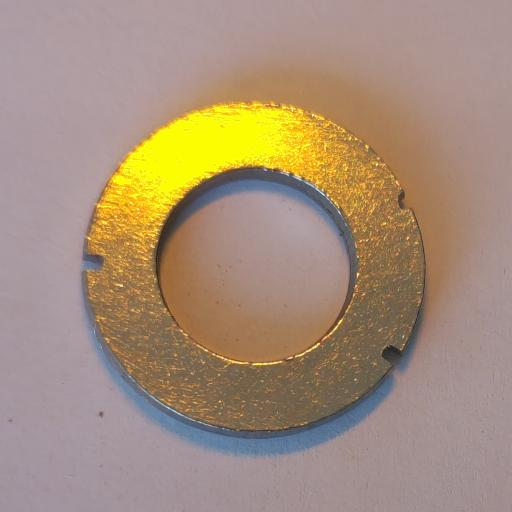burr: (380, 343, 403, 367), (82, 252, 106, 273), (397, 191, 413, 211)
